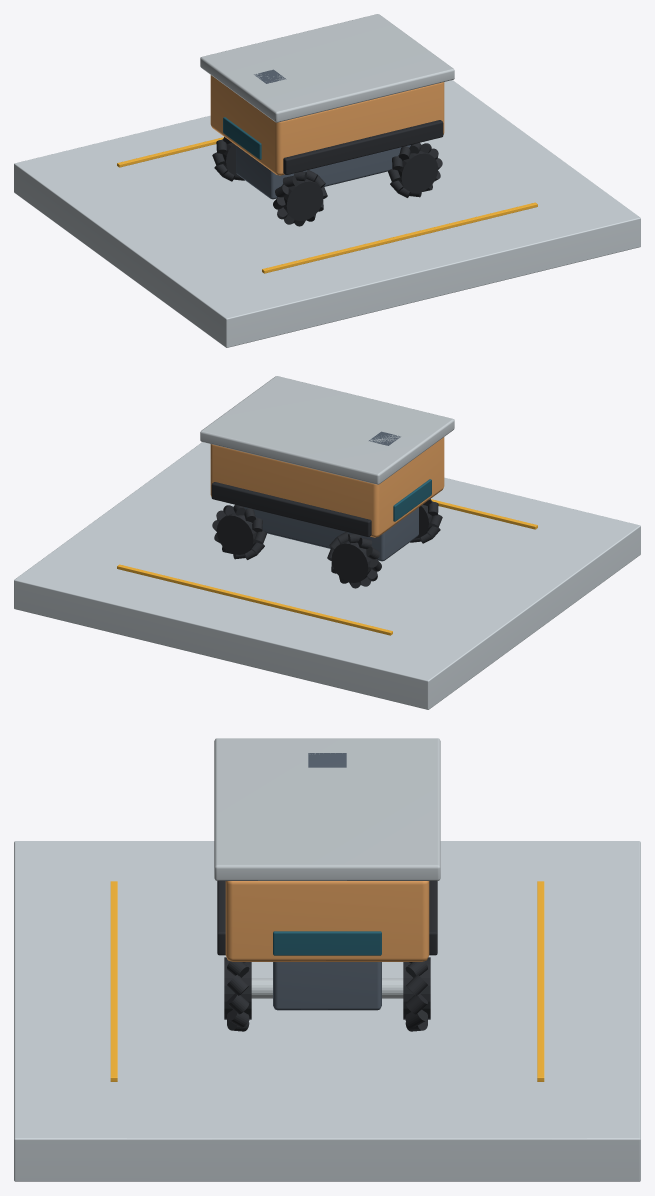
3 renders of one model, top to bottom at view 1: azimuth 30°, elevation 25°; view 2: azimuth 150°, elevation 25°; view 3: azimuth 270°, elevation 25°, orthographic. The views are drawn at different scales.
Visible parts, largest first — view 1: Ground plane, Unactuated load interface deck, Platform upper enclosure, Platform perimeter bumper -1, Platform central load frame, Concept clearance guide, Omnidirectional wheel core -1 -1, Omnidirectional wheel core 1 -1, Platform navigation window -1, Concept clearance guide.001; view 2: Ground plane, Unactuated load interface deck, Platform upper enclosure, Platform perimeter bumper 1, Platform central load frame, Concept clearance guide.001, Omnidirectional wheel core -1 1, Omnidirectional wheel core 1 1, Platform navigation window -1, Concept clearance guide; view 3: Ground plane, Unactuated load interface deck, Platform upper enclosure, Platform central load frame, Platform navigation window 1, Concept clearance guide, Concept clearance guide.001, Omnidirectional wheel core 1 -1, Omnidirectional wheel core 1 1, Platform perimeter bumper -1, Platform perimeter bumper 1.
Boxes of the visible parts, bbox=[...] form: Ground plane: bbox=[14, 80, 640, 347]; Unactuated load interface deck: bbox=[200, 14, 454, 122]; Platform upper enclosure: bbox=[210, 75, 444, 175]; Platform perimeter bumper -1: bbox=[283, 120, 443, 174]; Platform central load frame: bbox=[236, 145, 410, 199]; Concept clearance guide: bbox=[262, 202, 537, 273]; Omnidirectional wheel core -1 -1: bbox=[282, 179, 323, 220]; Omnidirectional wheel core 1 -1: bbox=[398, 151, 438, 192]; Platform navigation window -1: bbox=[223, 117, 261, 159]; Concept clearance guide.001: bbox=[117, 137, 223, 167]; Ground plane: bbox=[14, 442, 640, 709]; Unactuated load interface deck: bbox=[200, 376, 454, 484]; Platform upper enclosure: bbox=[210, 437, 444, 537]; Platform perimeter bumper 1: bbox=[211, 482, 371, 536]; Platform central load frame: bbox=[244, 507, 418, 561]; Concept clearance guide.001: bbox=[117, 564, 392, 635]; Omnidirectional wheel core -1 1: bbox=[331, 541, 372, 582]; Omnidirectional wheel core 1 1: bbox=[216, 513, 256, 554]; Platform navigation window -1: bbox=[393, 479, 431, 521]; Concept clearance guide: bbox=[431, 499, 537, 529]; Ground plane: bbox=[14, 841, 640, 1181]; Unactuated load interface deck: bbox=[214, 738, 440, 880]; Platform upper enclosure: bbox=[225, 881, 429, 961]; Platform central load frame: bbox=[273, 962, 381, 1010]; Platform navigation window 1: bbox=[273, 931, 381, 955]; Concept clearance guide: bbox=[110, 881, 117, 1081]; Concept clearance guide.001: bbox=[537, 881, 544, 1081]; Omnidirectional wheel core 1 -1: bbox=[224, 957, 251, 1019]; Omnidirectional wheel core 1 1: bbox=[403, 957, 430, 1019]; Platform perimeter bumper -1: bbox=[217, 881, 225, 955]; Platform perimeter bumper 1: bbox=[429, 881, 437, 955].
Size of the model in its own units: 1.76 by 0.638 by 1.57.
